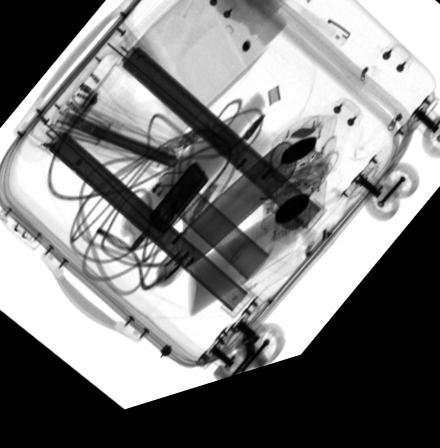Lighter: (149, 172, 209, 242)
